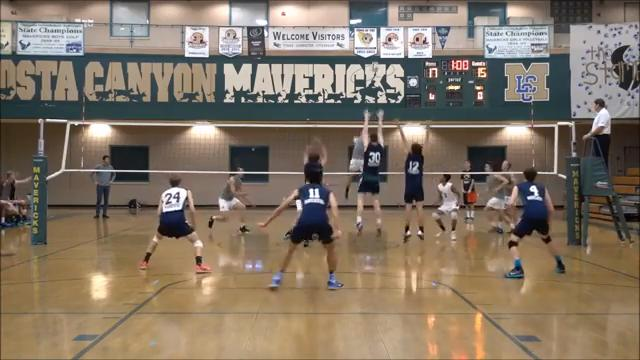attacco: (341, 116, 366, 200)
muro: (391, 112, 429, 245), (354, 105, 387, 246)
